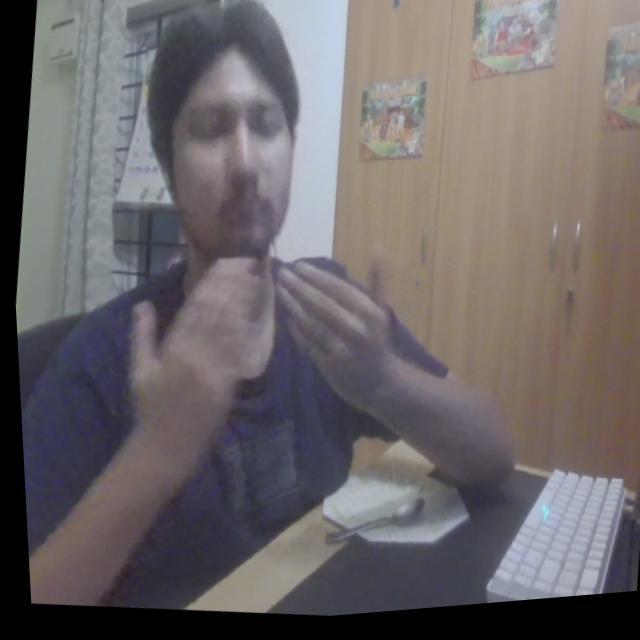thankyou: (98, 227, 407, 520)
